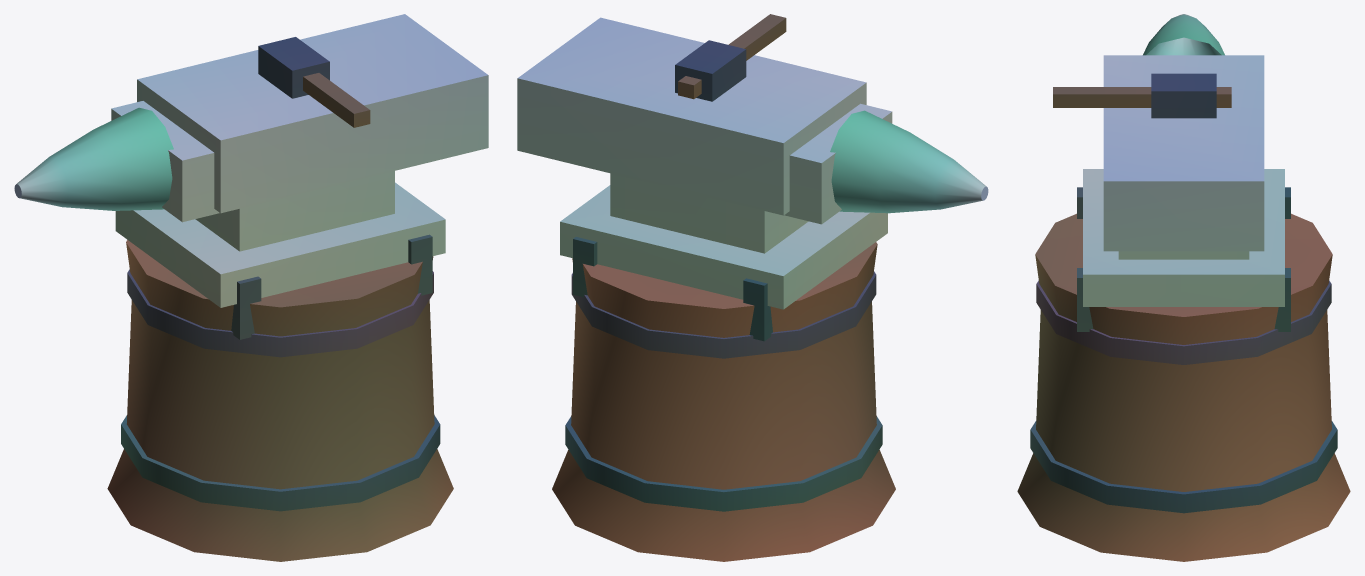
Rendered from anvil.glb.
3 renders of one model, left to right at view 1: azimuth 30°, elevation 25°; view 2: azimuth 150°, elevation 25°; view 3: azimuth 270°, elevation 25°, orthographic. The views are drawn at different scales.
Parts seen in each view (by area): view 1: stump, anvil_iron, anvil_horn, stump_hoop, stump_hoop.001, anvil_hoops, hammer_haft; view 2: stump, anvil_iron, anvil_horn, stump_hoop, stump_hoop.001, anvil_hoops, hammer_haft; view 3: stump, anvil_iron, stump_hoop, stump_hoop.001, anvil_hoops, hammer_haft, anvil_horn.
Part boxes in pixels (left/top/right/bottom): stump: left=107, top=240, right=453, bottom=561; anvil_iron: left=111, top=14, right=488, bottom=307; anvil_horn: left=14, top=107, right=173, bottom=210; stump_hoop: left=121, top=415, right=440, bottom=511; stump_hoop.001: left=127, top=269, right=433, bottom=357; anvil_hoops: left=231, top=37, right=432, bottom=339; hammer_haft: left=303, top=73, right=370, bottom=127; stump: left=552, top=242, right=895, bottom=561; anvil_iron: left=517, top=17, right=892, bottom=309; anvil_horn: left=830, top=110, right=988, bottom=213; stump_hoop: left=565, top=416, right=882, bottom=511; stump_hoop.001: left=571, top=271, right=876, bottom=358; anvil_hoops: left=573, top=40, right=772, bottom=341; hammer_haft: left=678, top=14, right=786, bottom=99; stump: left=1017, top=213, right=1350, bottom=561; anvil_iron: left=1083, top=55, right=1284, bottom=306; stump_hoop: left=1030, top=421, right=1337, bottom=513; stump_hoop.001: left=1036, top=280, right=1331, bottom=364; anvil_hoops: left=1077, top=73, right=1290, bottom=331; hammer_haft: left=1053, top=87, right=1231, bottom=107; anvil_horn: left=1143, top=14, right=1224, bottom=55.
Size of the model in its own units: 0.8 by 0.77 by 0.56.
